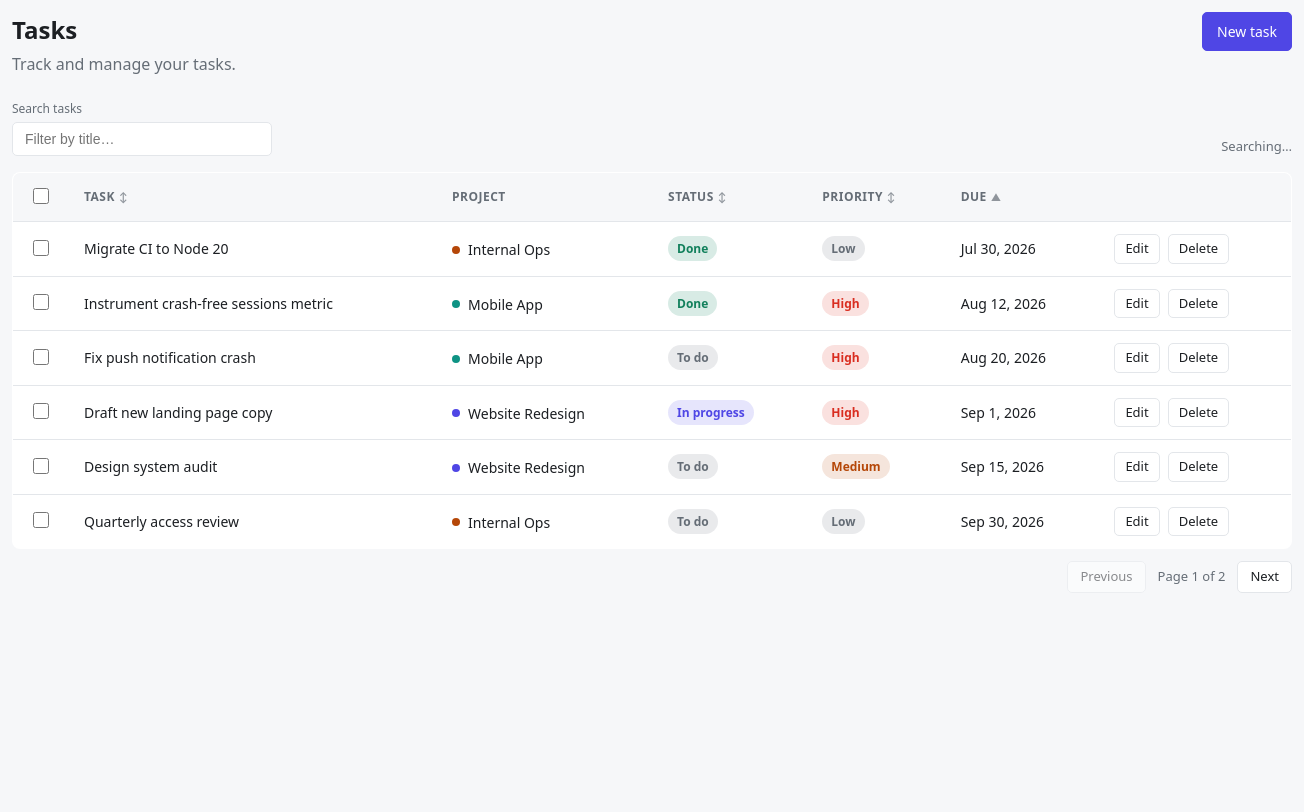
Test: TasksPage › preserves selection when a selected task is filtered out and back in
The width and height of the screenshot is (1304, 812).
Expected: the text "Design system audit" is shown, [68,440,436,494]
Click the checkbox named "select Design system audit": (41, 466) [33,458,49,474]
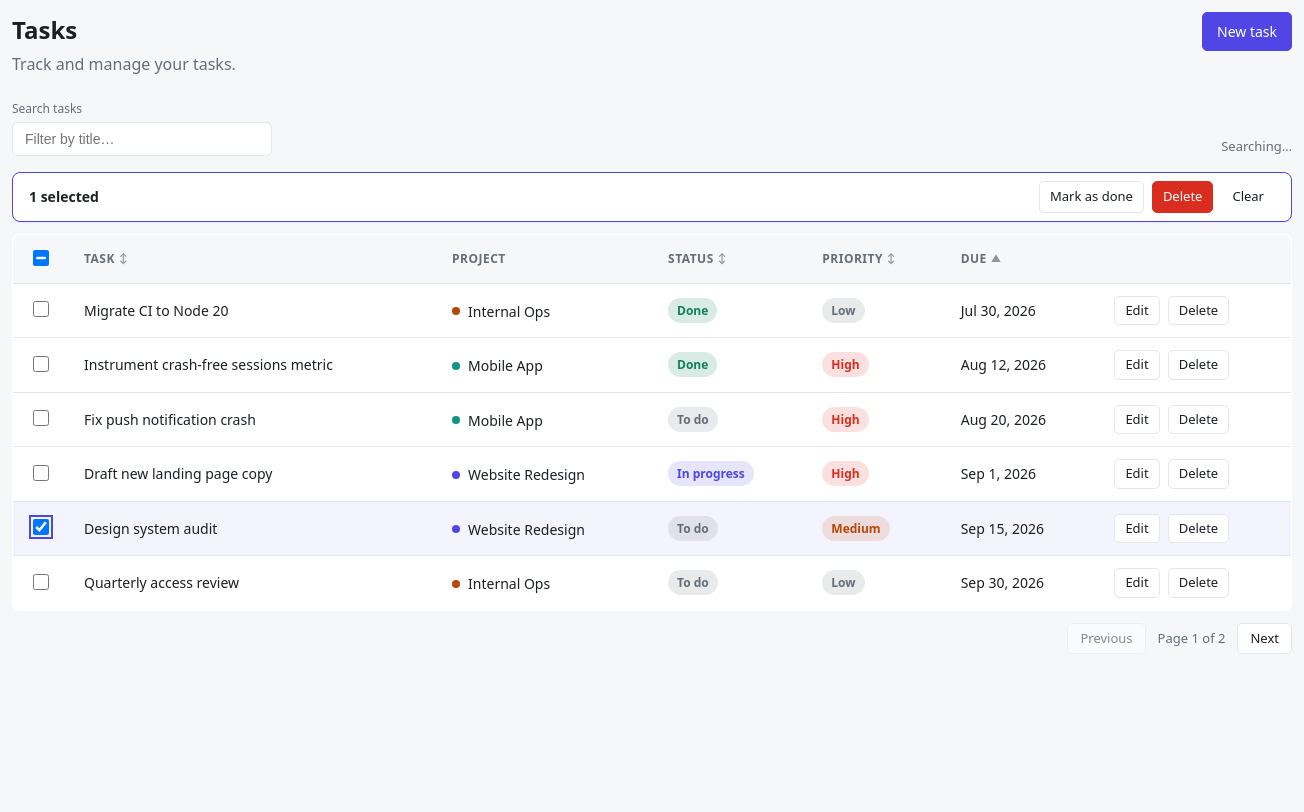
Expected: the checkbox named "select Design system audit" is checked, [33,519,49,535]
Expected: the text "1 selected" is shown, [29,186,99,207]
// Filter so the selected task is no longer displayed.
In the search field: (142, 139) [12,122,272,156], type "landing"
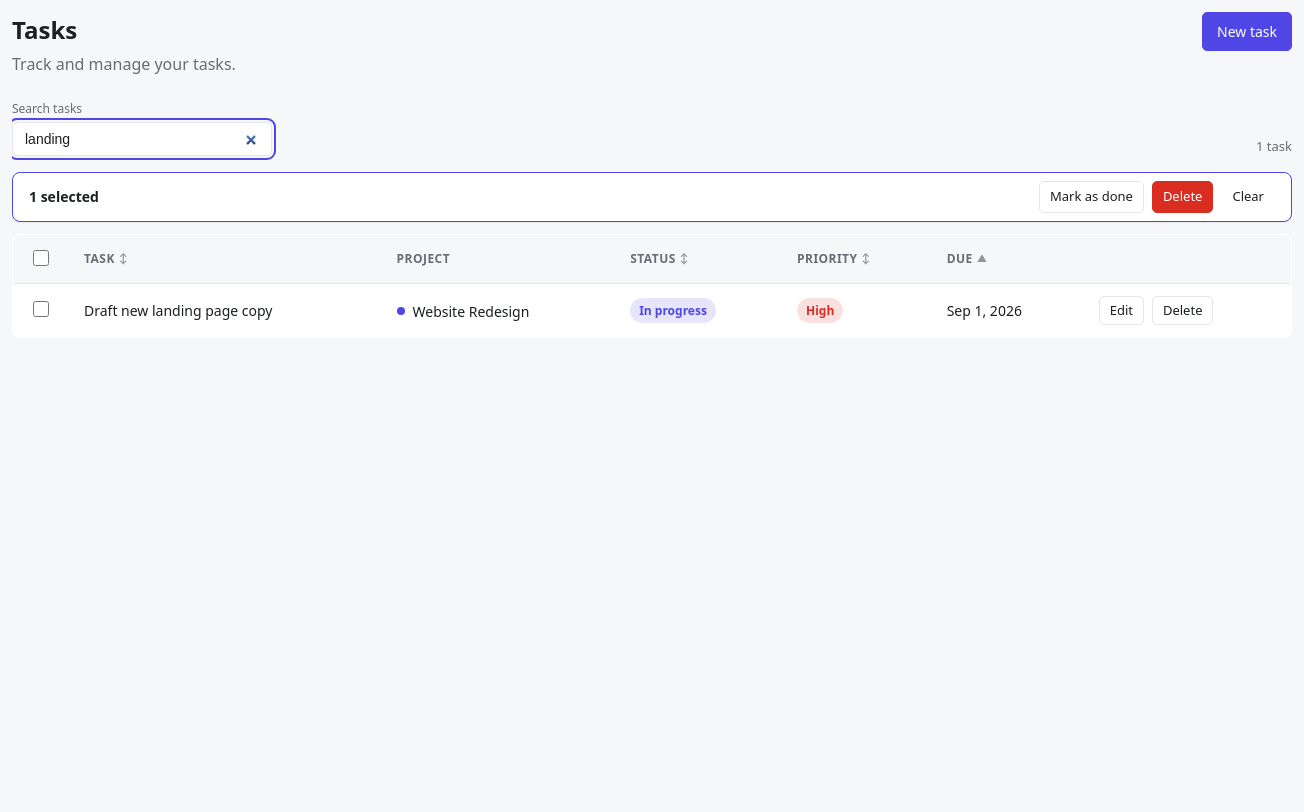
Expected: the text "1 selected" is shown, [29,186,99,207]
Expected: the text "Design system audit" is gone
// Clear the filter and confirm the row is still selected.
Clear the search field: (142, 139) [12,122,272,156]
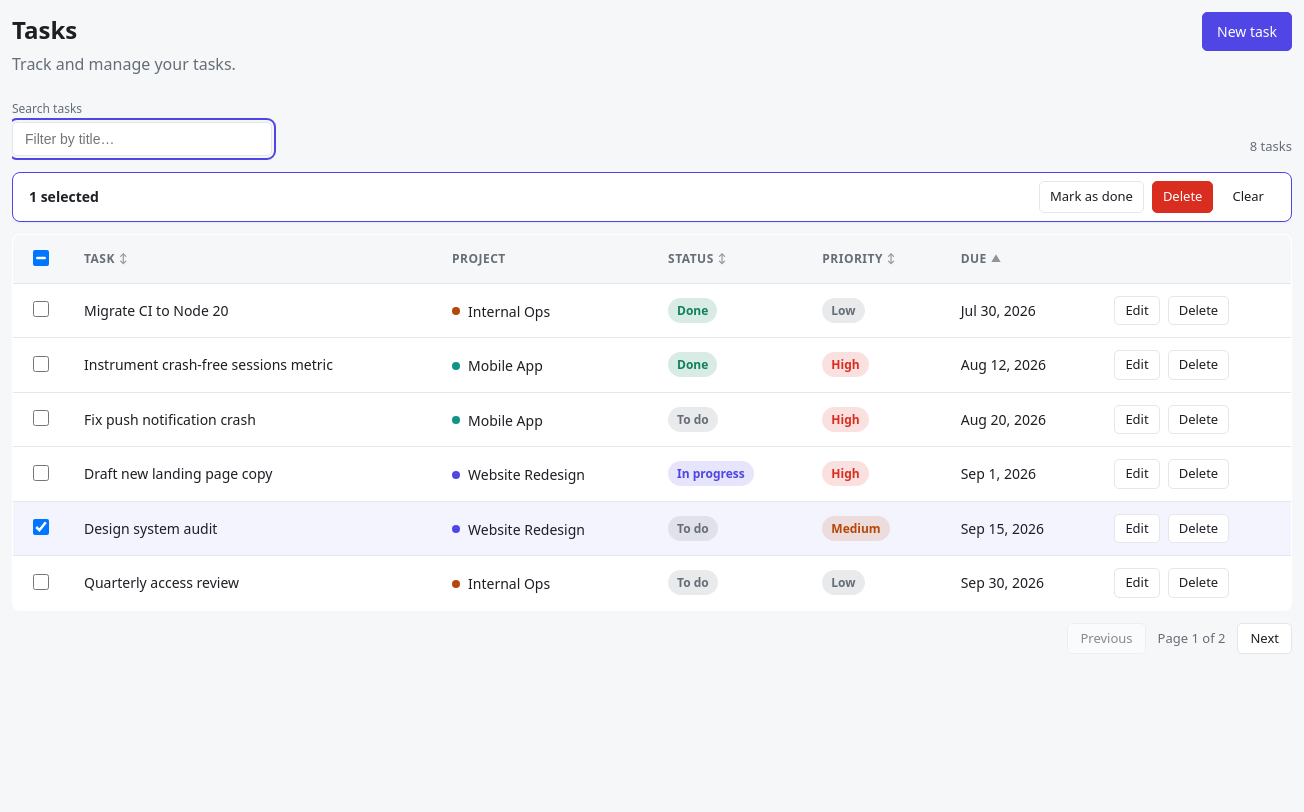
Expected: the checkbox named "select Design system audit" is checked, [33,519,49,535]
